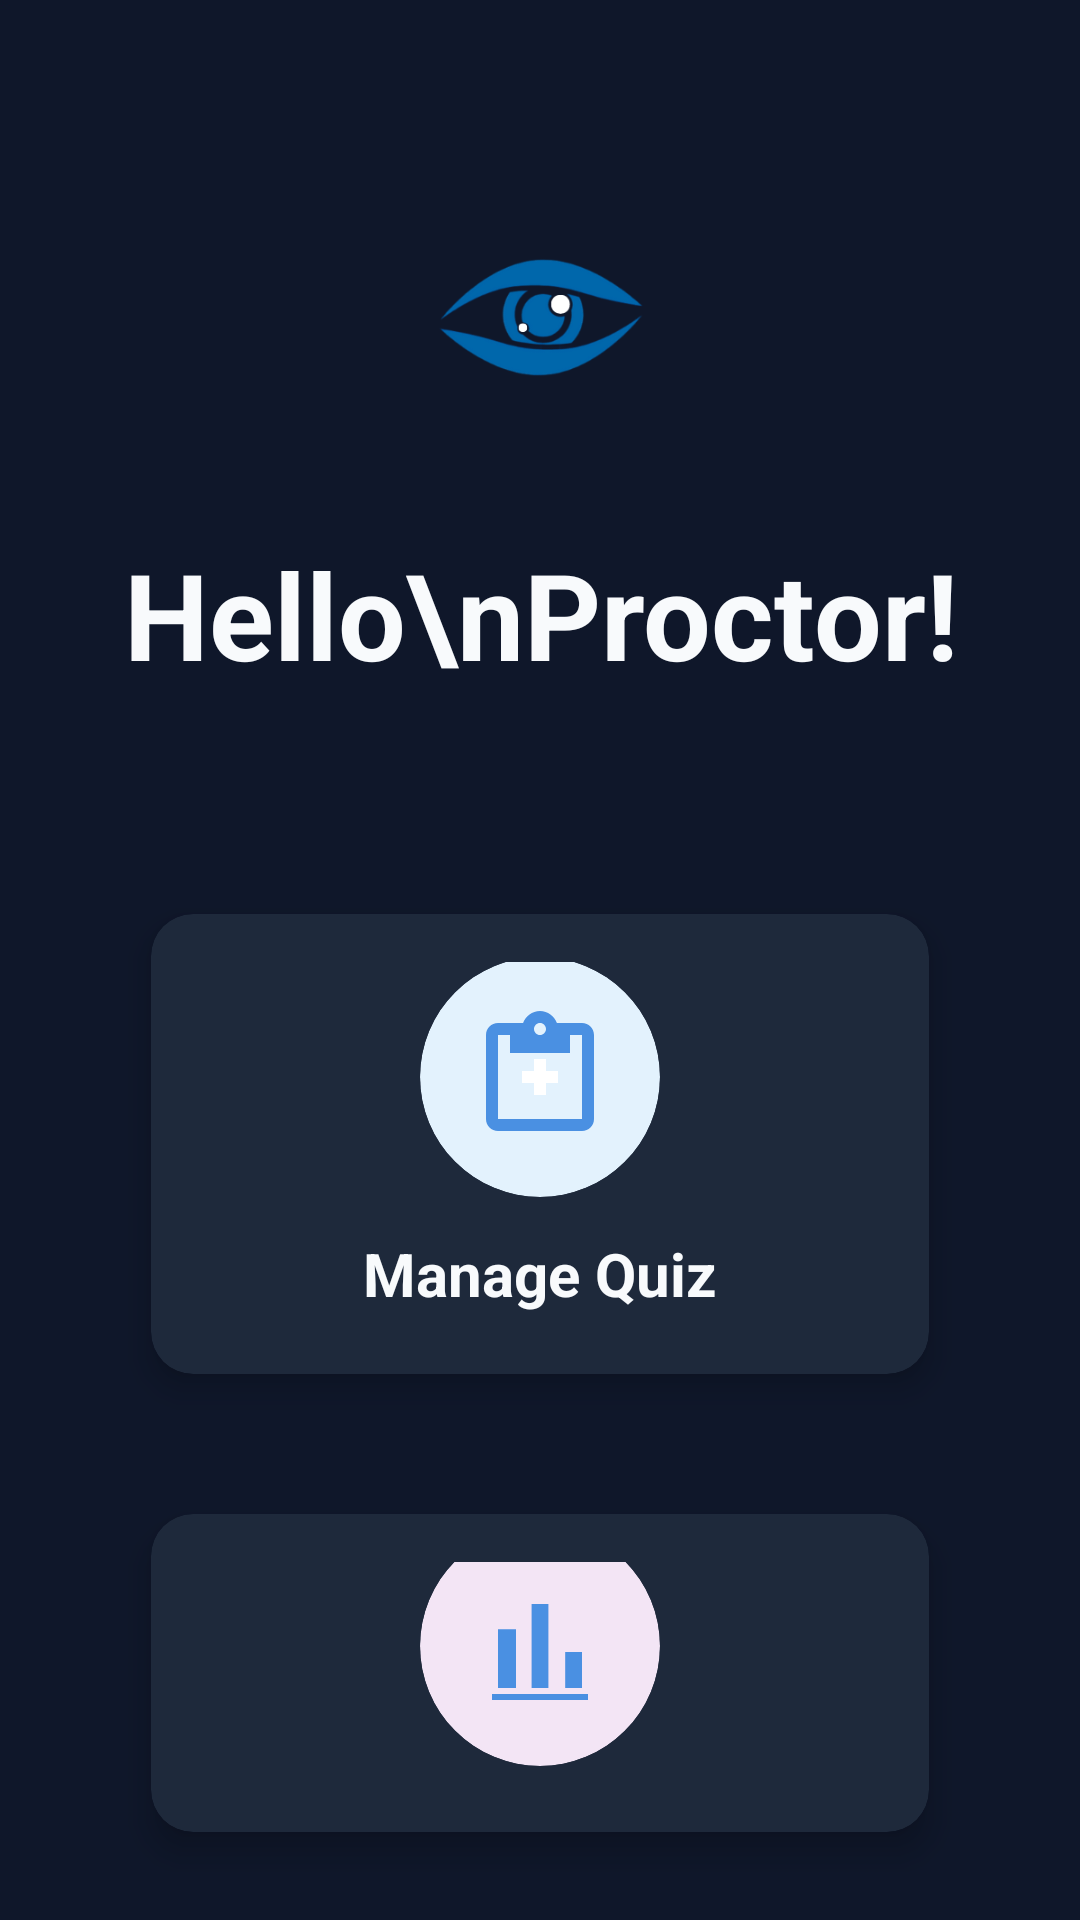

Screen size 1080 × 1920. Icon name, then its center in pixels as point (x, y):
View Summary Icon: point (540, 1652)
